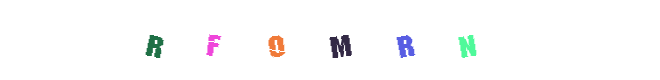F: (218, 0, 298, 80)
M: (290, 0, 370, 80)
N: (410, 0, 490, 80)
O: (236, 0, 316, 80)
R: (172, 0, 252, 80), (353, 0, 433, 80)
